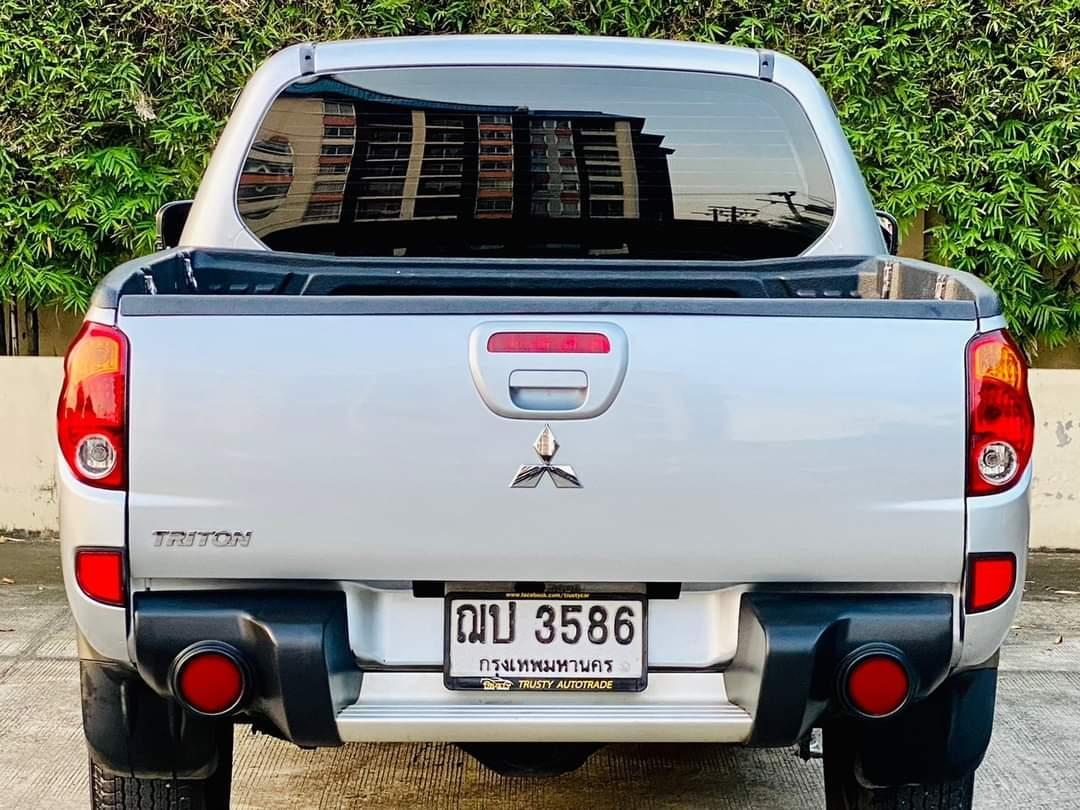license-plate: (440, 588, 651, 697)
